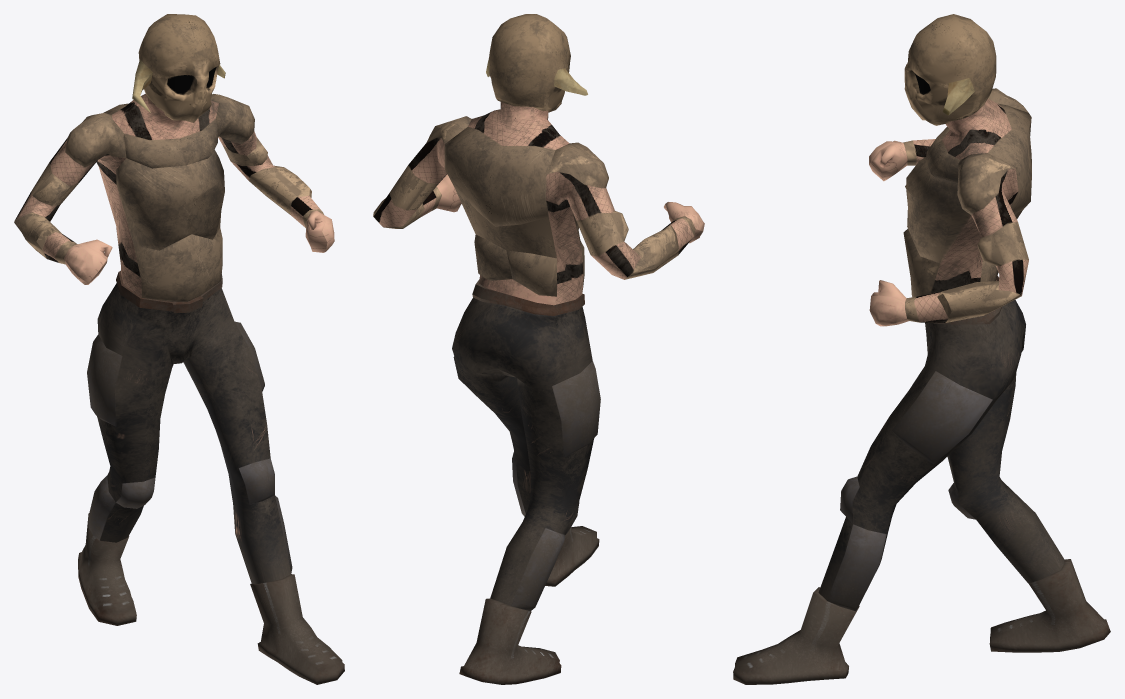
The model's file is Anim_ataque_d1_npc1.0027.obj.
The picture shows the model from 3 angles, left to right: view 1: azimuth 30°, elevation 25°; view 2: azimuth 150°, elevation 25°; view 3: azimuth 270°, elevation 25°; orthographic projection. The views are drawn at different scales.
Visible parts, largest first — view 1: NPC2; view 2: NPC2; view 3: NPC2.
Boxes of the visible parts, x1,y1,x2,y2 form: NPC2: (14, 14, 344, 684); NPC2: (373, 14, 704, 684); NPC2: (733, 14, 1110, 684).
Bounding box in the file's own units: 4.35 × 9.28 × 4.93.
